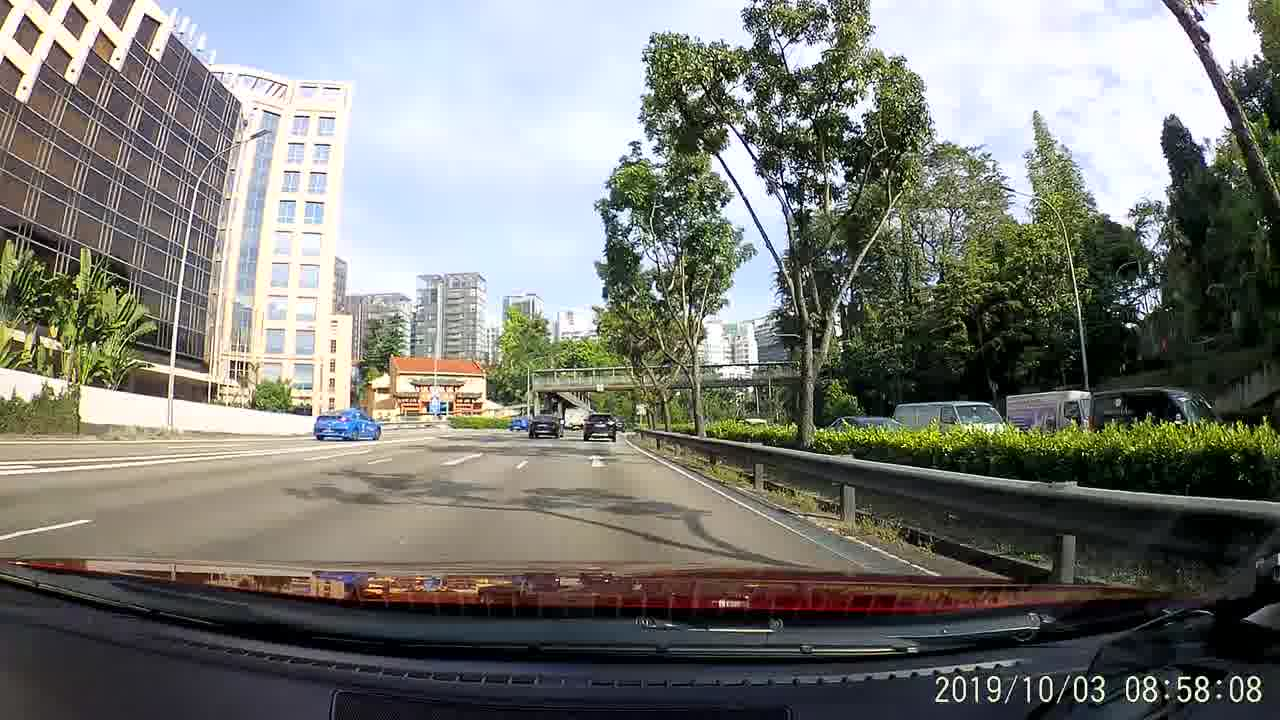car: (312, 406, 385, 439), (582, 410, 619, 441), (527, 410, 563, 438), (509, 416, 528, 432)
